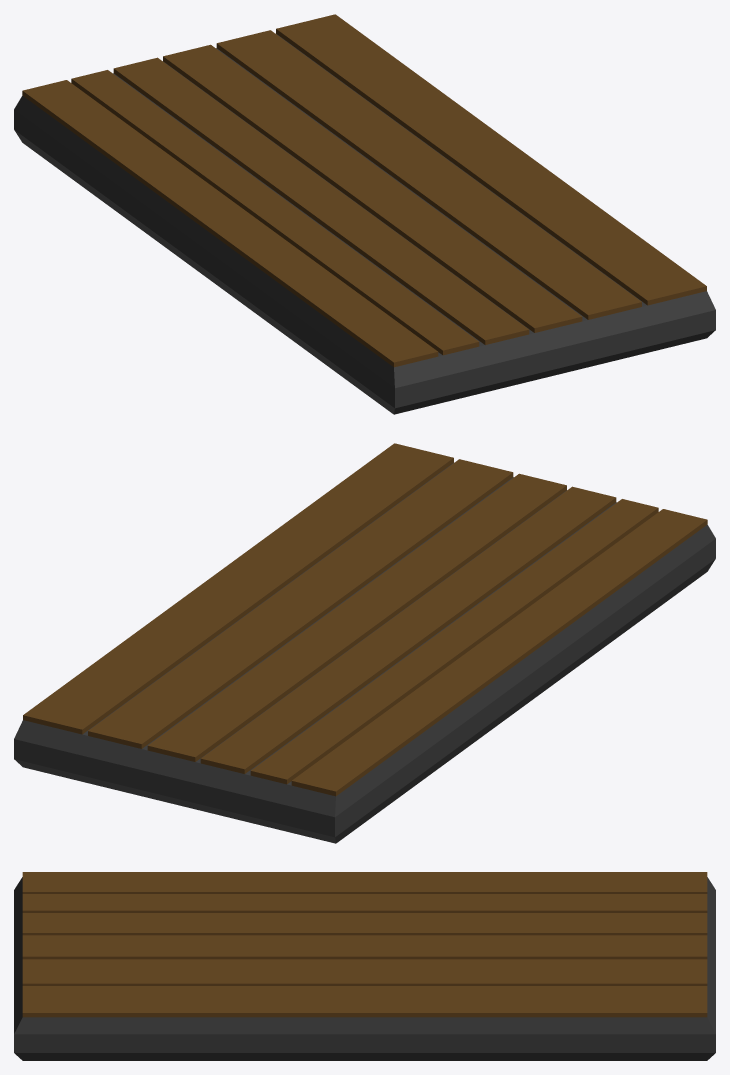
The model's file is plataforma.fbx.
3 views of the same model, one above another, from view 1: azimuth 30°, elevation 25°; view 2: azimuth 150°, elevation 25°; view 3: azimuth 270°, elevation 25° (orthographic). The views are drawn at different scales.
Parts seen in each view (by area): view 1: Plataforma; view 2: Plataforma; view 3: Plataforma.
Part boxes in pixels (box(x1,y1,x2,y2)): Plataforma: box(14, 14, 715, 414); Plataforma: box(14, 443, 715, 843); Plataforma: box(14, 872, 715, 1060).
Size of the model in its own units: 347 by 53.82 by 713.
Materials: 1 (1 with a texture image).
